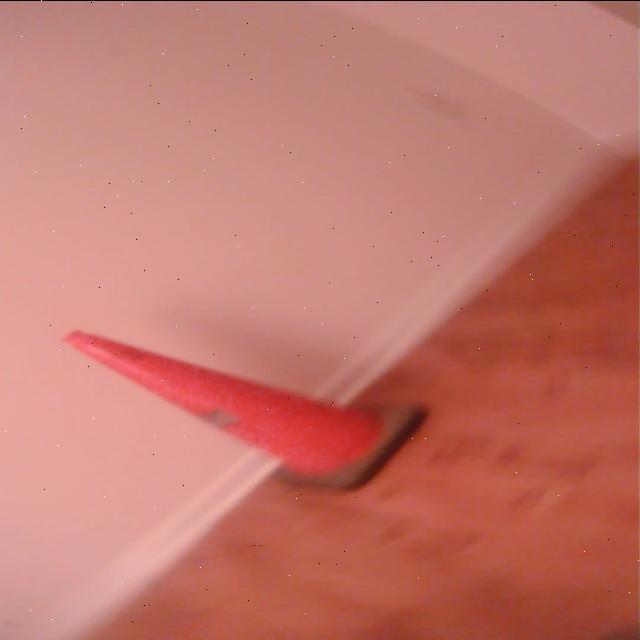traffic cone: (54, 328, 434, 495)
